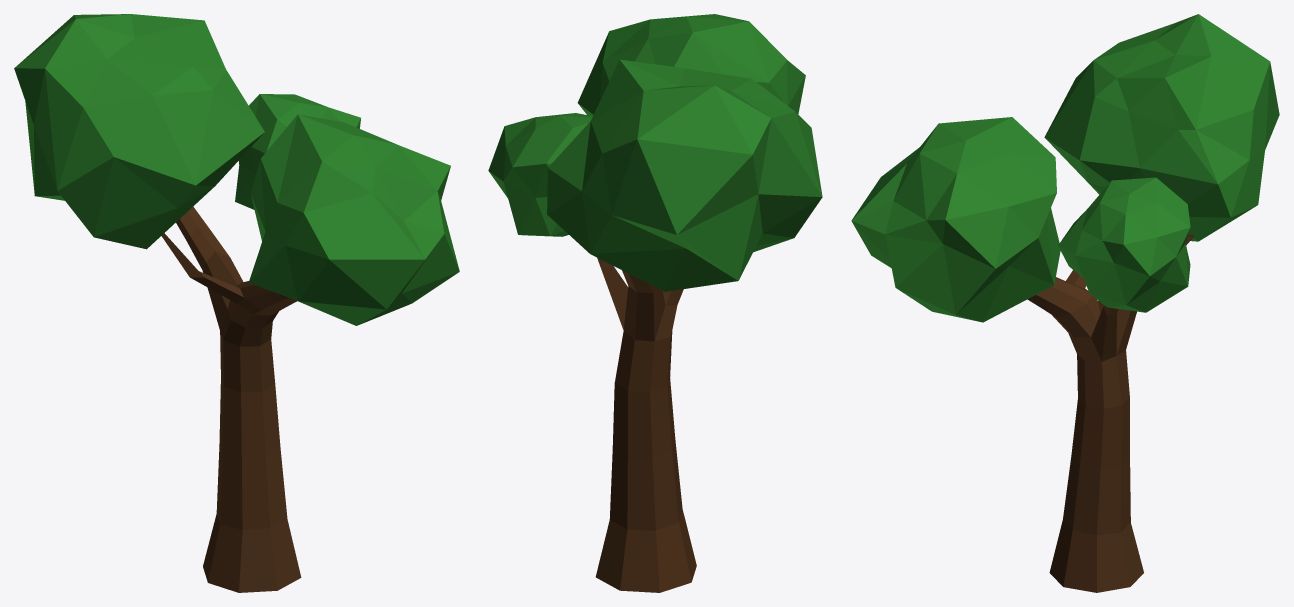
File: Tree1.fbx
3 views of the same model, side by side, from view 1: azimuth 30°, elevation 25°; view 2: azimuth 150°, elevation 25°; view 3: azimuth 270°, elevation 25° (orthographic). The views are drawn at different scales.
Parts seen in each view (by area): view 1: Cylinder.005; view 2: Cylinder.005; view 3: Cylinder.005.
Part boxes in pixels (x1,y1,x2,y2): Cylinder.005: (14,14,459,592); Cylinder.005: (488,14,822,592); Cylinder.005: (851,14,1279,592).
Size of the model in its own units: 266 by 448 by 345.
